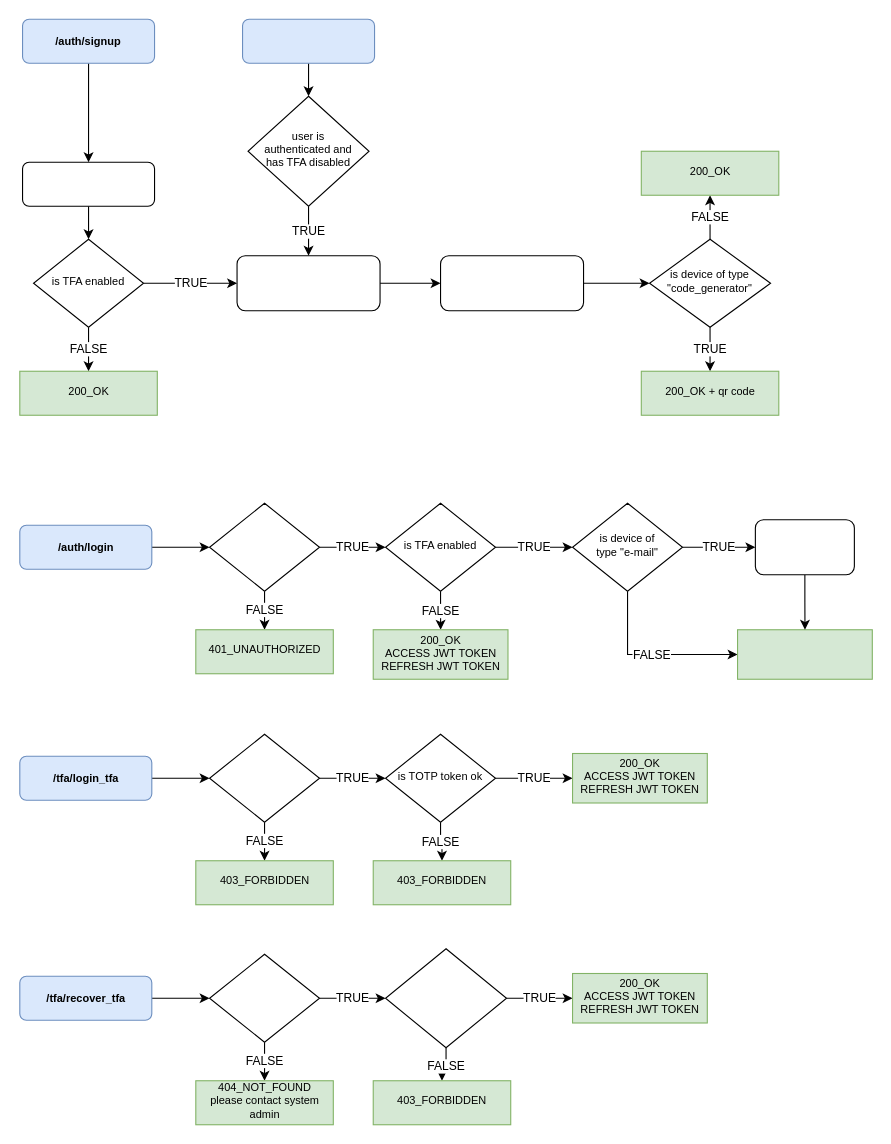
The diagram is 891 pixels wide and 1144 high, and some of its shapes have lost their labels. Each missing label, with the centre of its shape:
"/tfa/enable_tfa" belongs at pixel 308 40.
"202_ACCEPTED PRE-TFA JWT TOKEN" belongs at pixel 804 654.
"associate device and save encrypted user key" belongs at pixel 308 283.
"create and send backup tokens" belongs at pixel 511 283.
"create user if does not exist" belongs at pixel 88 183.
"credentials are ok" belongs at pixel 264 546.
"is backup OTP token in user's backup tokens" belongs at pixel 445 998.
"is PRE-TFA JWT TOKEN ok" belongs at pixel 264 777.
"send TOTP token via email" belongs at pixel 804 547.
"user has some backup tokens left" belongs at pixel 264 997.
